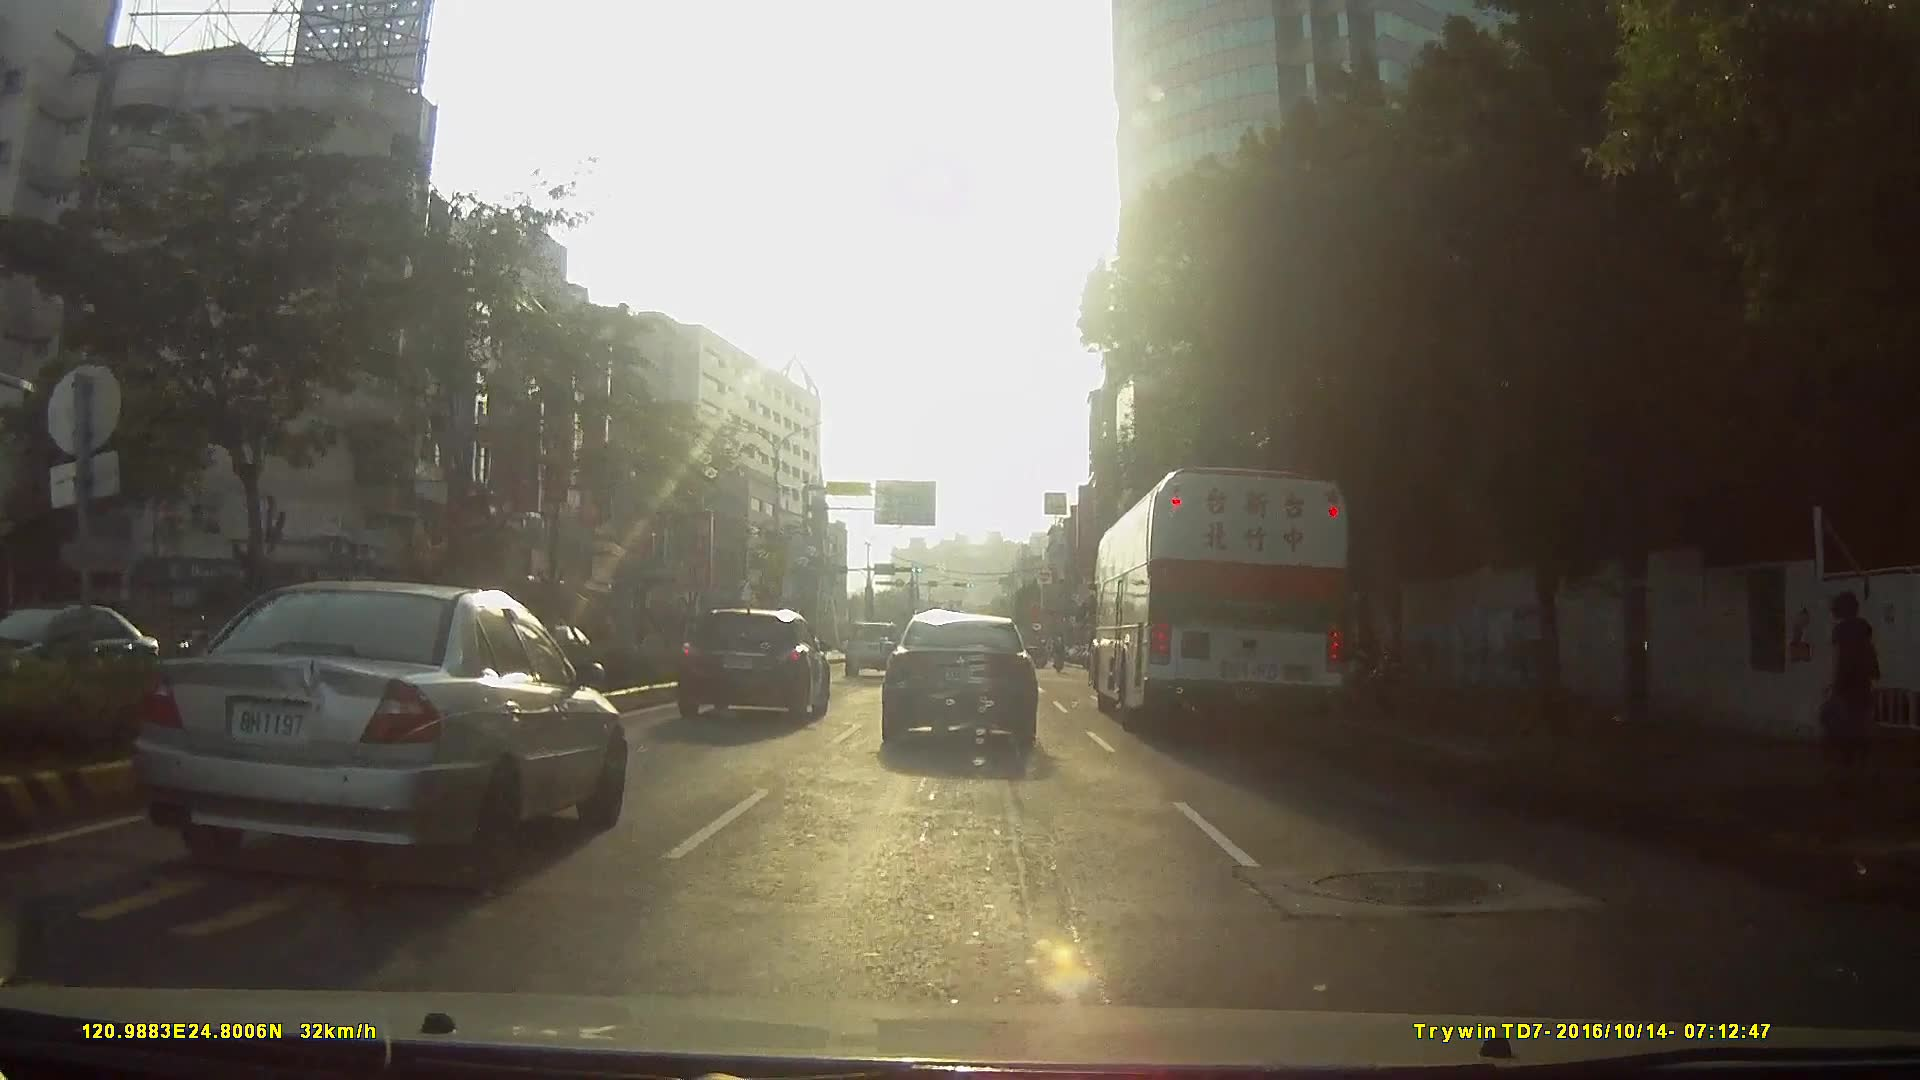pedestrian: (1822, 590, 1890, 778)
vehicle: (124, 574, 626, 891), (1095, 456, 1364, 731), (878, 608, 1041, 752), (675, 602, 831, 720), (2, 602, 164, 712), (845, 617, 903, 675)
